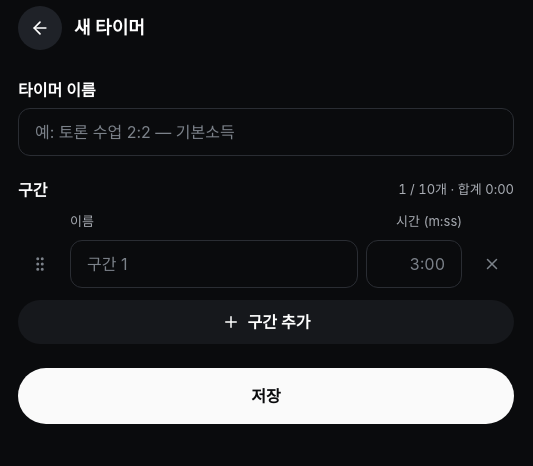
Test: TimerEditor › shows a field format error for 3.5
The width and height of the screenshot is (533, 466).
Type "새 발표" into the field labelled "타이머 이름".
click(266, 132); type("새 발표")  # box [18,108,514,156]
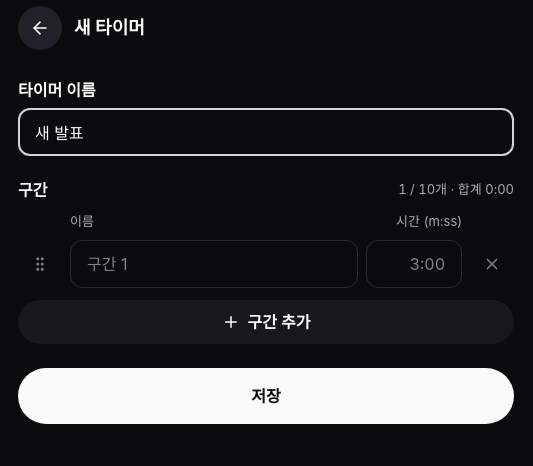
Type "도입" into the field named "구간 1 이름".
click(214, 264); type("도입")  # box [70,240,358,288]
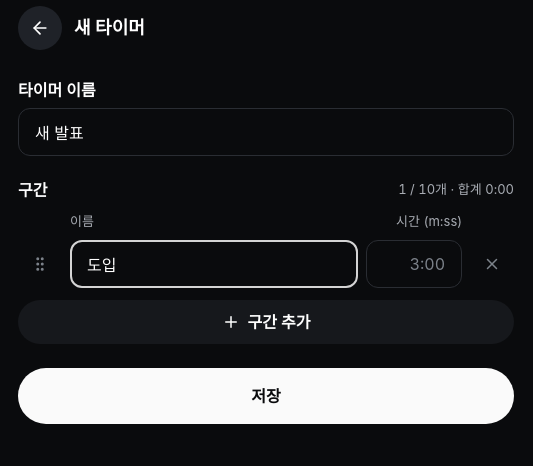
Type "3.5" into the field named "구간 1 시간".
click(414, 264); type("3.5")  # box [366,240,462,288]
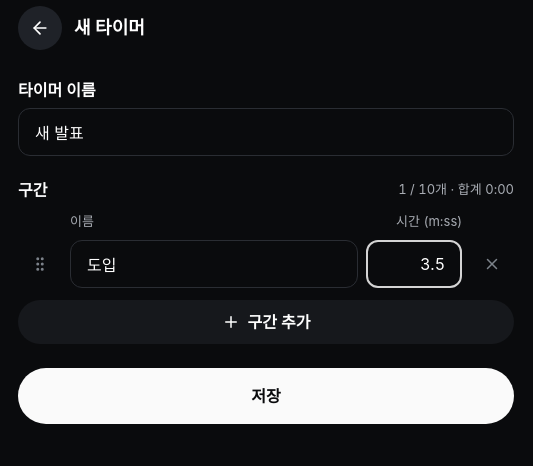
Click the button "저장".
click(266, 396)  # box [18,368,514,424]
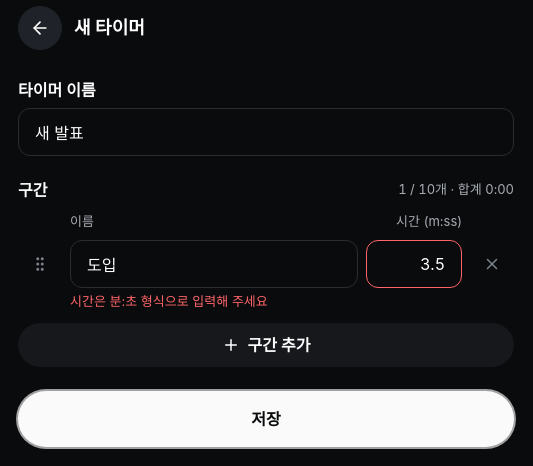
Check: the text "시간은 분:초 형식으로 입력해 주세요" is shown, box [70,292,268,308]
